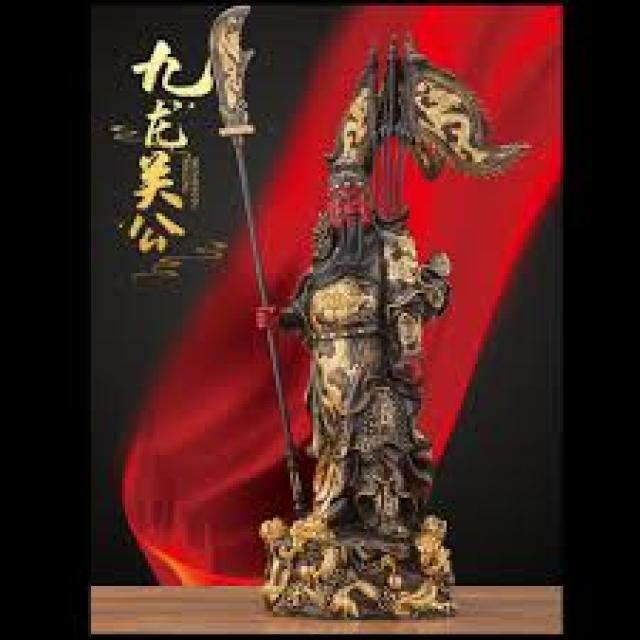Guan Yu: (294, 157, 425, 505)
